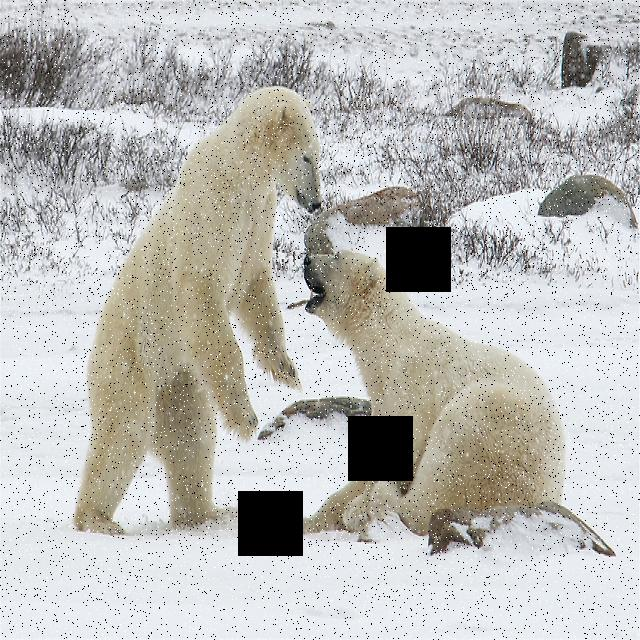Bear: (65, 87, 327, 540), (296, 237, 570, 546)
